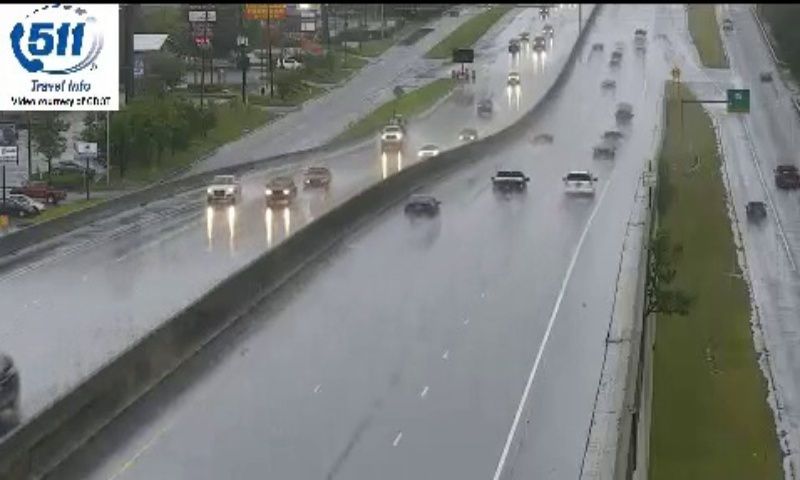car: (492, 169, 527, 197), (564, 171, 594, 198), (405, 196, 438, 219)
